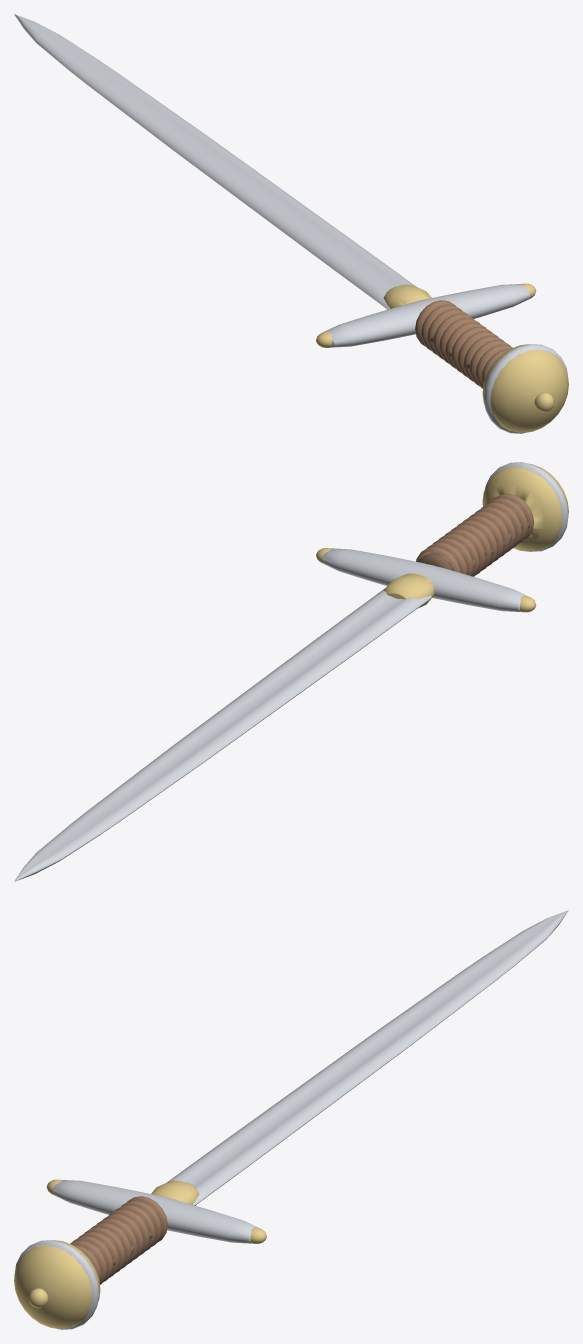
Rendered from th31_schwert_ritter.glb.
3 views of the same model, one above another, from view 1: azimuth 30°, elevation 25°; view 2: azimuth 150°, elevation 25°; view 3: azimuth 330°, elevation 25° (orthographic).
Parts seen in each view (by area): view 1: Klinge, Dreh.003, Dreh.001, Torus.018, Dreh; view 2: Klinge, Dreh.001, Dreh.003, Dreh, Torus.018; view 3: Klinge, Dreh.003, Dreh.001, Torus.018, Dreh.
Boxes of the visible parts, bbox=[...] form: Klinge: bbox=[14, 14, 416, 309]; Dreh.003: bbox=[482, 344, 568, 432]; Dreh.001: bbox=[324, 284, 530, 347]; Torus.018: bbox=[484, 344, 568, 433]; Dreh: bbox=[383, 284, 431, 309]; Klinge: bbox=[14, 588, 431, 881]; Dreh.001: bbox=[322, 548, 527, 611]; Dreh.003: bbox=[482, 463, 568, 551]; Dreh: bbox=[383, 573, 434, 608]; Torus.018: bbox=[485, 462, 568, 551]; Klinge: bbox=[166, 910, 568, 1205]; Dreh.003: bbox=[14, 1240, 100, 1328]; Dreh.001: bbox=[52, 1180, 258, 1243]; Torus.018: bbox=[14, 1240, 98, 1329]; Dreh: bbox=[151, 1180, 199, 1205].
Size of the model in its own units: 0.249 by 0.0938 by 1.06.
